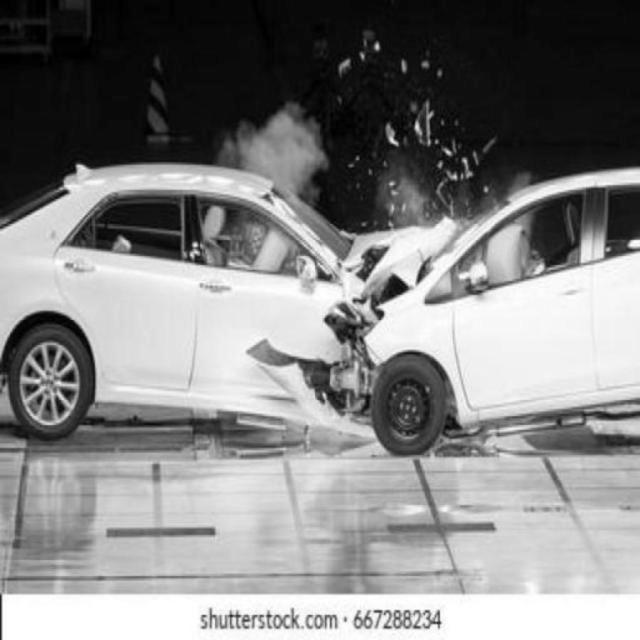accident: (6, 166, 634, 457)
